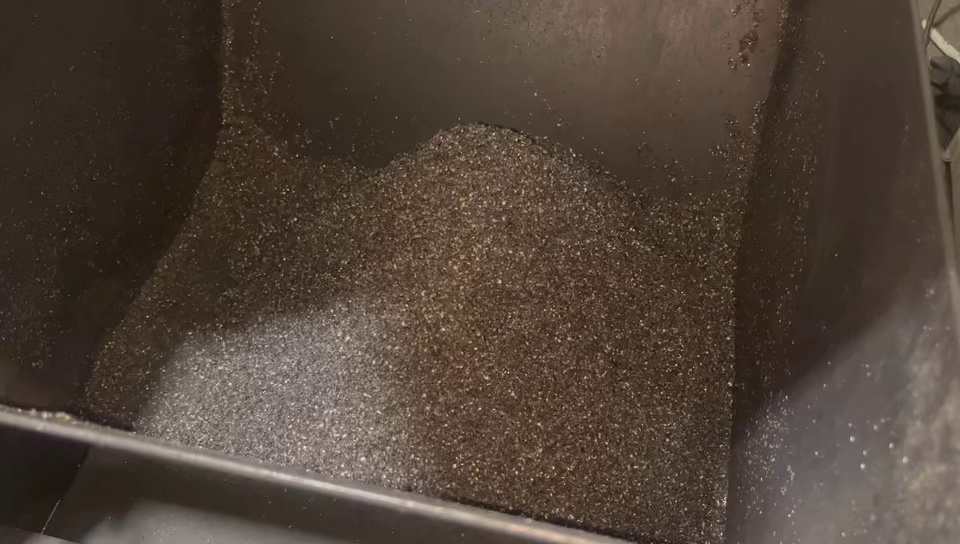iron_scrap: (120, 284, 733, 430), (186, 121, 734, 279), (213, 437, 729, 535)
